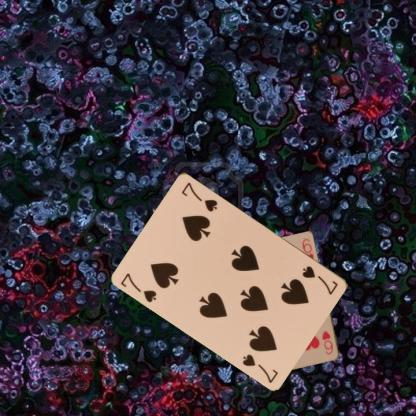6h: (320, 328, 334, 356)
7s: (118, 270, 158, 304), (300, 263, 340, 296)
